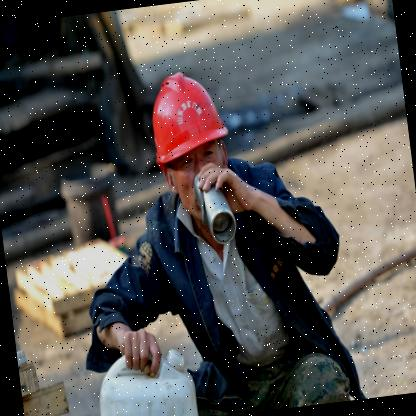capacete: (142, 63, 242, 234)
sem_colete_refletivo: (64, 153, 356, 405)
